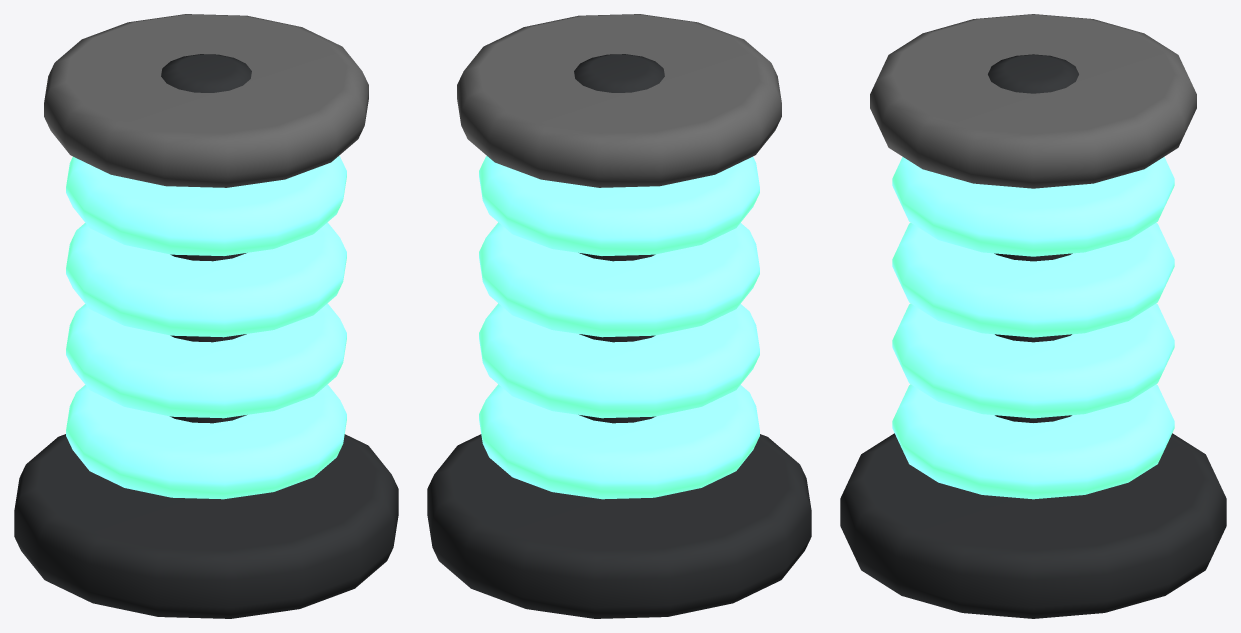
The model's file is e-core.glb.
3 renders of one model, left to right at view 1: azimuth 30°, elevation 25°; view 2: azimuth 150°, elevation 25°; view 3: azimuth 270°, elevation 25°, orthographic.
Visible parts, largest first — view 1: e-core; view 2: e-core; view 3: e-core.
Part boxes in pixels (box(x1,y1,x2,y2)): e-core: box(14, 14, 398, 618); e-core: box(427, 14, 811, 618); e-core: box(840, 14, 1226, 618).
Size of the model in its own units: 0.52 by 0.71 by 0.52.
